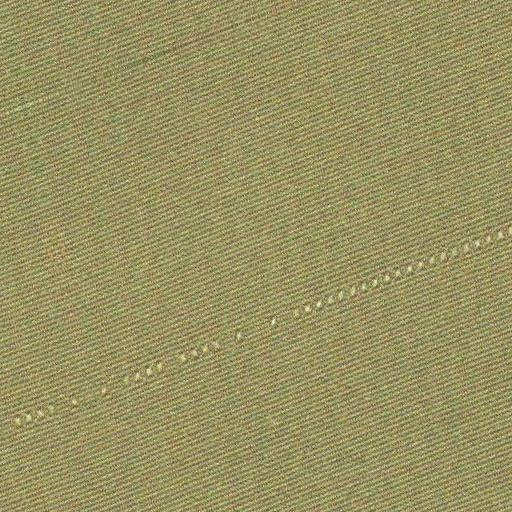slub: (15, 219, 512, 452)
